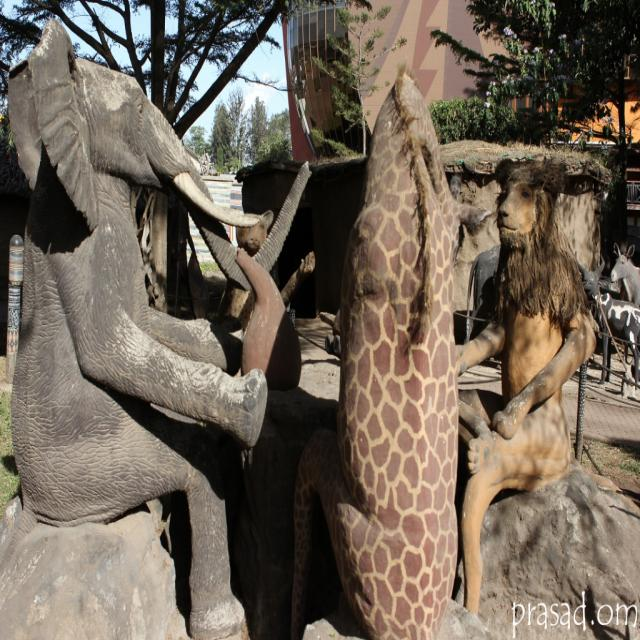elephant: (14, 53, 272, 624)
